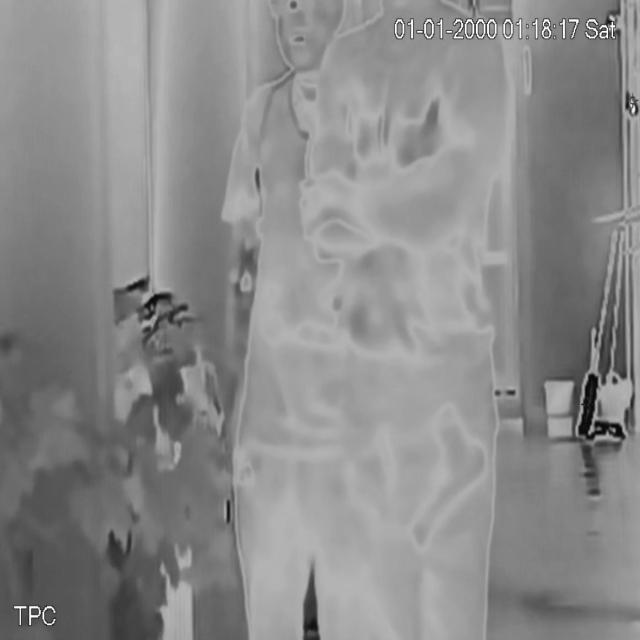Weapon: (413, 406, 497, 550)
